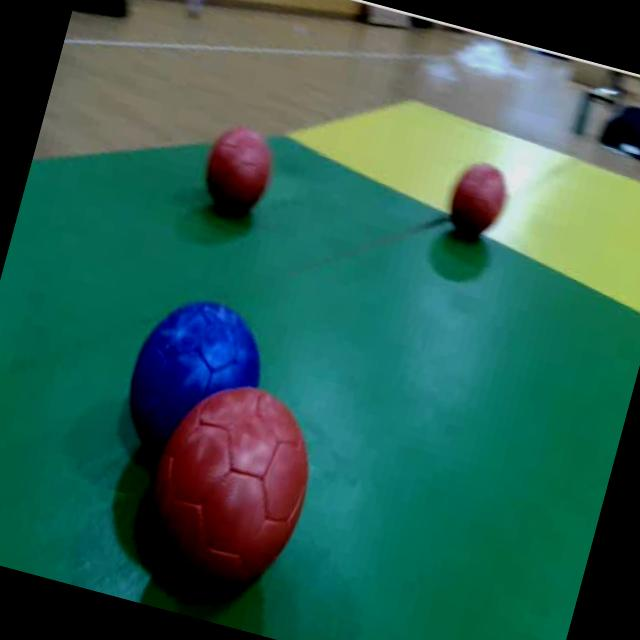blue_ball: (132, 286, 229, 402)
red_ball: (150, 394, 330, 618), (191, 115, 286, 228), (439, 154, 517, 245)
